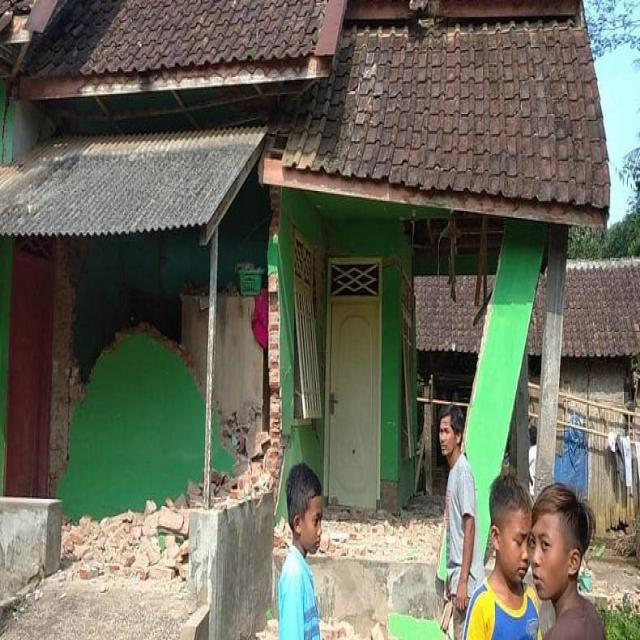damage: (45, 201, 284, 470), (456, 207, 561, 596), (75, 445, 272, 601), (315, 461, 464, 572)
